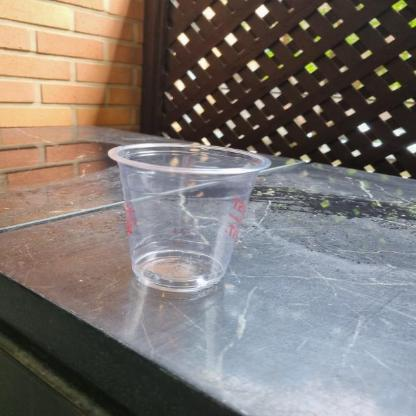Plastic Cup: (108, 142, 272, 292)
